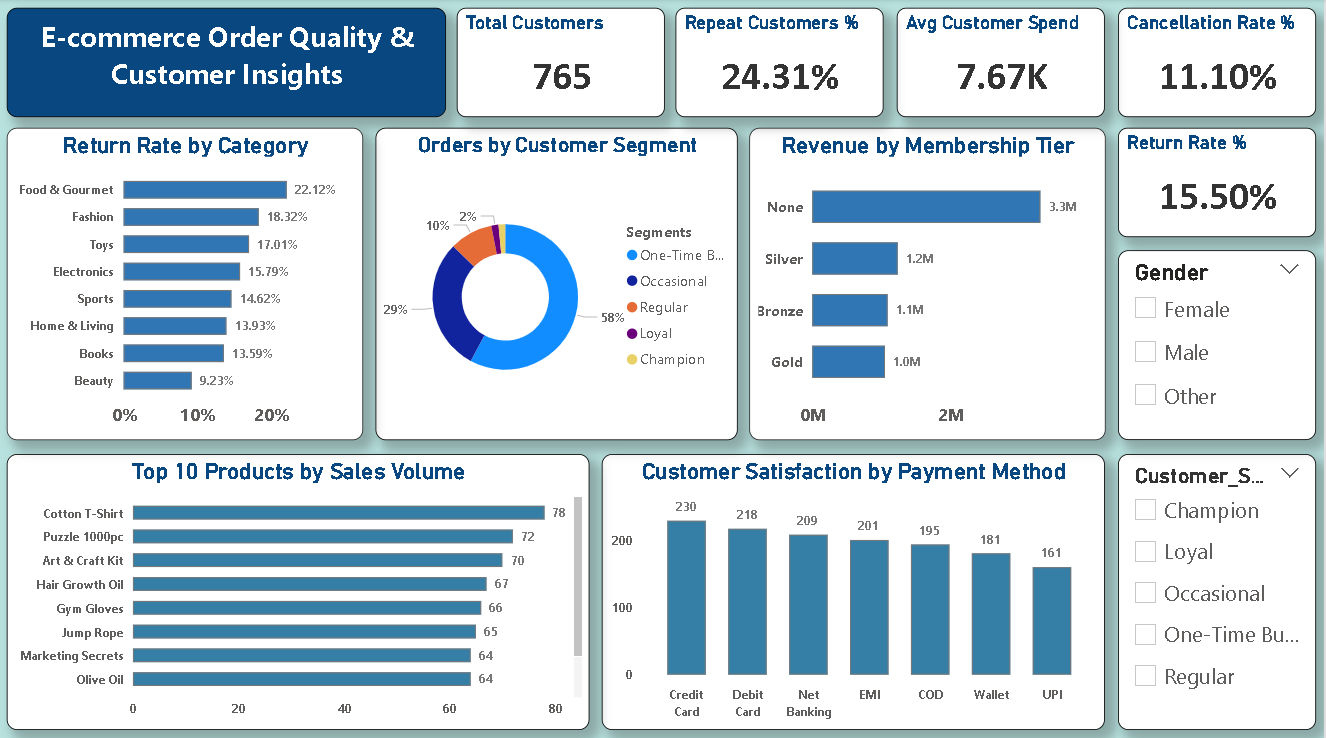

Layout of this report page (visuals, bound fields, positions):
{"tool":"powerbi","page":{"name":"Order Quality & Customer Insight","canvas":[1280,720],"ordinal":1},"visuals":[{"type":"textbox","box":[8.6,8.6,423.9,106],"z":0},{"type":"columnChart","title":"Customer Satisfaction by Payment Method","fields":{"Category":["Orders_Raw.Payment_Method"],"Y":["Sum(Orders_Raw.Customer_Rating)"]},"box":[582.8,438.7,485.5,266.2],"z":1000},{"type":"donutChart","title":"Orders by Customer Segment","fields":{"Y":["Orders_Raw.Total Orders"],"Category":["Customer_Profiles.Customer_Segment"]},"box":[364.7,124.5,349.9,301.9],"z":2000},{"type":"barChart","title":"Top 10 Products by Sales Volume","fields":{"Category":["Orders_Raw.Product_Name"],"Y":["Sum(Orders_Raw.Quantity)"]},"box":[8.2,439.1,562.6,266.2],"z":3000},{"type":"barChart","title":"Return Rate by Category","fields":{"Y":["Orders_Raw.Return Rate %"],"Category":["Orders_Raw.Category"]},"box":[8.6,124.5,343.8,301.9],"z":4000},{"type":"barChart","title":"Revenue by Membership Tier","fields":{"Category":["Orders_Raw.Membership_Tier"],"Y":["Orders_Raw.Total Revenue"]},"box":[724.5,124.5,343.8,301.9],"z":5000},{"type":"card","title":"Cancellation Rate %","fields":{"Values":["Orders_Raw.Cancellation Order %"]},"box":[1080.6,8.6,191,106],"z":6000},{"type":"card","title":"Avg Customer Spend","fields":{"Values":["Customer_Profiles.Average Customer Spend"]},"box":[867.5,8.6,200.8,106],"z":7000},{"type":"card","title":"Total Customers","fields":{"Values":["Count(Customer_Profiles.Customer_ID)"]},"box":[442.4,8.6,200.8,106],"z":8000},{"type":"card","title":"Repeat Customers %","fields":{"Values":["Customer_Profiles.Repeat Cutomers %"]},"box":[654.3,8.6,200.8,106],"z":9000},{"type":"slicer","title":"Customer Segment","fields":{"Values":["Customer_Profiles.Customer_Segment"]},"box":[1080.6,438.7,191,266.2],"z":10000},{"type":"card","title":"Return Rate %","fields":{"Values":["Orders_Raw.Return Rate %"]},"box":[1080.6,124.5,191,106],"z":11000},{"type":"slicer","fields":{"Values":["Customer_Profiles.Gender"]},"box":[1080.6,242.7,191,183.6],"z":12000}]}

Visuals, with their boxes in screenshot pixels (x1, y1, x2, y2), scaled from the page's 1280x720 canvas onto the 1326x738 screenshot:
textbox: (left=9, top=9, right=448, bottom=117)
"Customer Satisfaction by Payment Method" columnChart: (left=604, top=450, right=1107, bottom=723)
"Orders by Customer Segment" donutChart: (left=378, top=128, right=740, bottom=437)
"Top 10 Products by Sales Volume" barChart: (left=8, top=450, right=591, bottom=723)
"Return Rate by Category" barChart: (left=9, top=128, right=365, bottom=437)
"Revenue by Membership Tier" barChart: (left=751, top=128, right=1107, bottom=437)
"Cancellation Rate %" card: (left=1119, top=9, right=1317, bottom=117)
"Avg Customer Spend" card: (left=899, top=9, right=1107, bottom=117)
"Total Customers" card: (left=458, top=9, right=666, bottom=117)
"Repeat Customers %" card: (left=678, top=9, right=886, bottom=117)
"Customer Segment" slicer: (left=1119, top=450, right=1317, bottom=723)
"Return Rate %" card: (left=1119, top=128, right=1317, bottom=236)
slicer - Customer_Profiles.Gender: (left=1119, top=249, right=1317, bottom=437)
